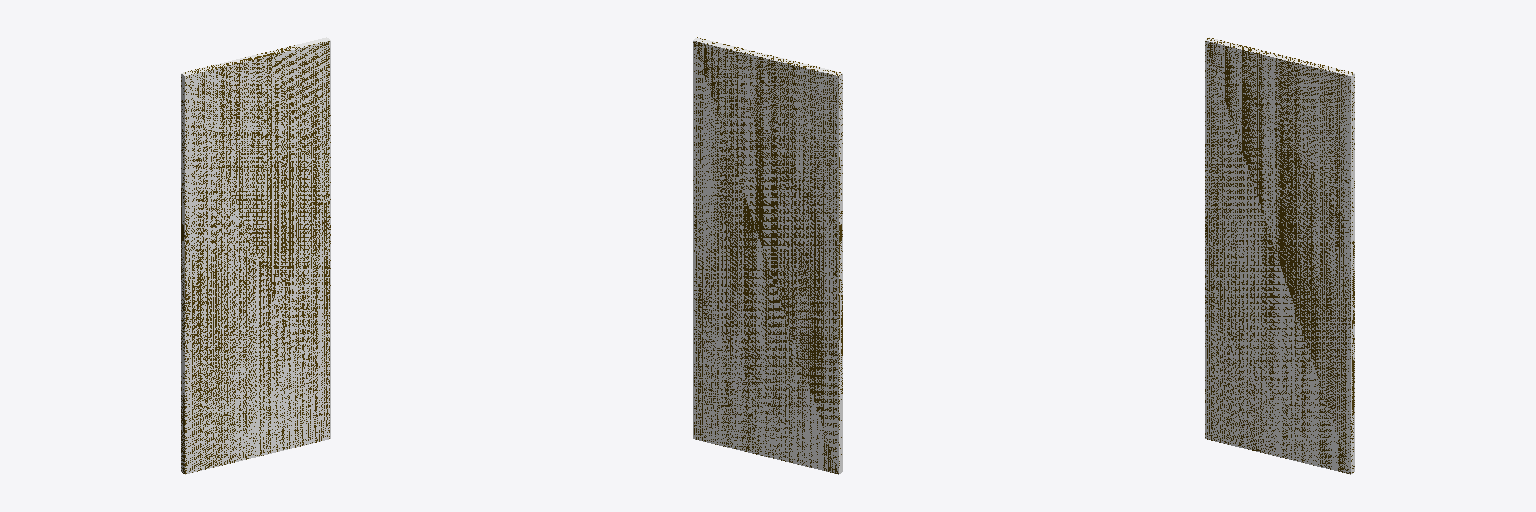
Rendered from original-10.obj.
3 views of the same model, side by side, from view 1: azimuth 30°, elevation 25°; view 2: azimuth 150°, elevation 25°; view 3: azimuth 330°, elevation 25° (orthographic).
Parts seen in each view (by area): view 1: Group5/mesh30/mesh30-geometry#mesh30-geometry; view 2: Group5/mesh30/mesh30-geometry#mesh30-geometry; view 3: Group5/mesh30/mesh30-geometry#mesh30-geometry.
Part boxes in pixels (left/top/right/bottom): Group5/mesh30/mesh30-geometry#mesh30-geometry: left=181, top=37, right=330, bottom=474; Group5/mesh30/mesh30-geometry#mesh30-geometry: left=693, top=37, right=842, bottom=474; Group5/mesh30/mesh30-geometry#mesh30-geometry: left=1205, top=37, right=1354, bottom=474.
Bounding box in the file's own units: 0.6576 × 1.71 × 0.0346.